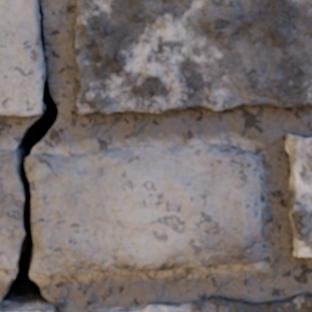brick: (74, 0, 311, 116), (0, 0, 43, 116), (91, 295, 311, 311), (286, 135, 311, 256), (0, 304, 55, 311)
broken_brick: (28, 143, 262, 275), (0, 150, 22, 271)
crack: (0, 2, 60, 309)
